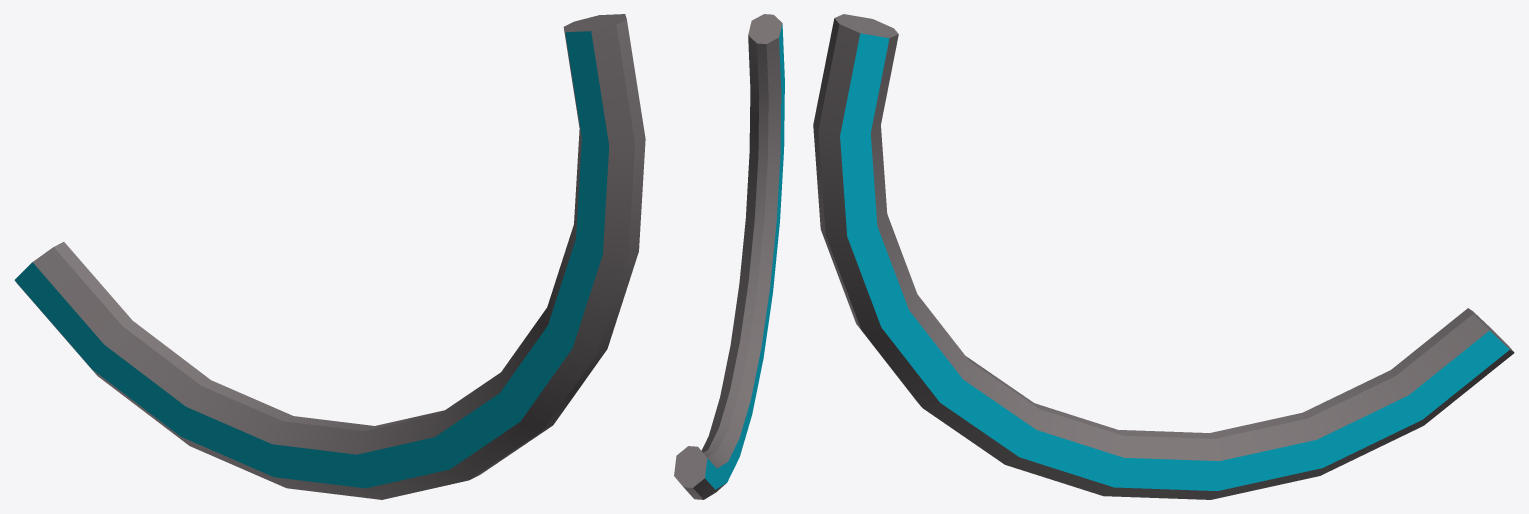
The model's file is PinnerCircle02.fbx.
3 views of the same model, side by side, from view 1: azimuth 30°, elevation 25°; view 2: azimuth 150°, elevation 25°; view 3: azimuth 270°, elevation 25° (orthographic). The views are drawn at different scales.
Parts seen in each view (by area): view 1: PortalOuterRing01; view 2: PortalOuterRing01; view 3: PortalOuterRing01.
Part boxes in pixels (<box>): PortalOuterRing01: <box>14,14,645,499</box>; PortalOuterRing01: <box>674,14,784,499</box>; PortalOuterRing01: <box>813,14,1514,499</box>.
Bounding box in the file's own units: 64.82 × 132 × 157.
